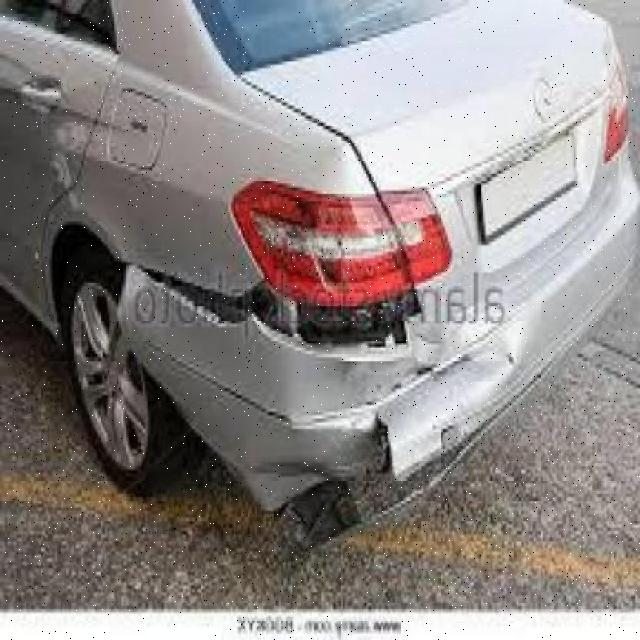damage: (111, 247, 535, 568)
